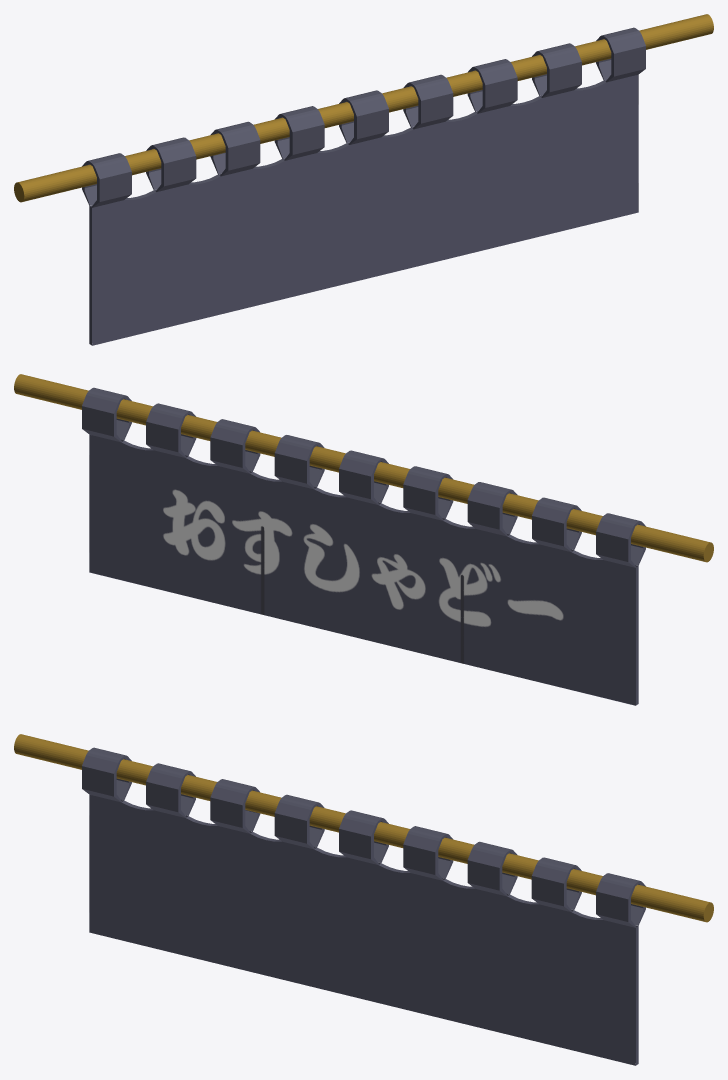
Rendered from titleGoodwill.obj.
3 views of the same model, one above another, from view 1: azimuth 30°, elevation 25°; view 2: azimuth 150°, elevation 25°; view 3: azimuth 330°, elevation 25° (orthographic).
Parts seen in each view (by area): view 1: 円柱; view 2: 円柱; view 3: 円柱.
Part boxes in pixels (<box>): 円柱: <box>14,14,713,345</box>; 円柱: <box>14,374,713,705</box>; 円柱: <box>14,734,713,1065</box>.
Size of the model in its own units: 13.03 by 3.29 by 0.585.
Materials: 1 (1 with a texture image).
